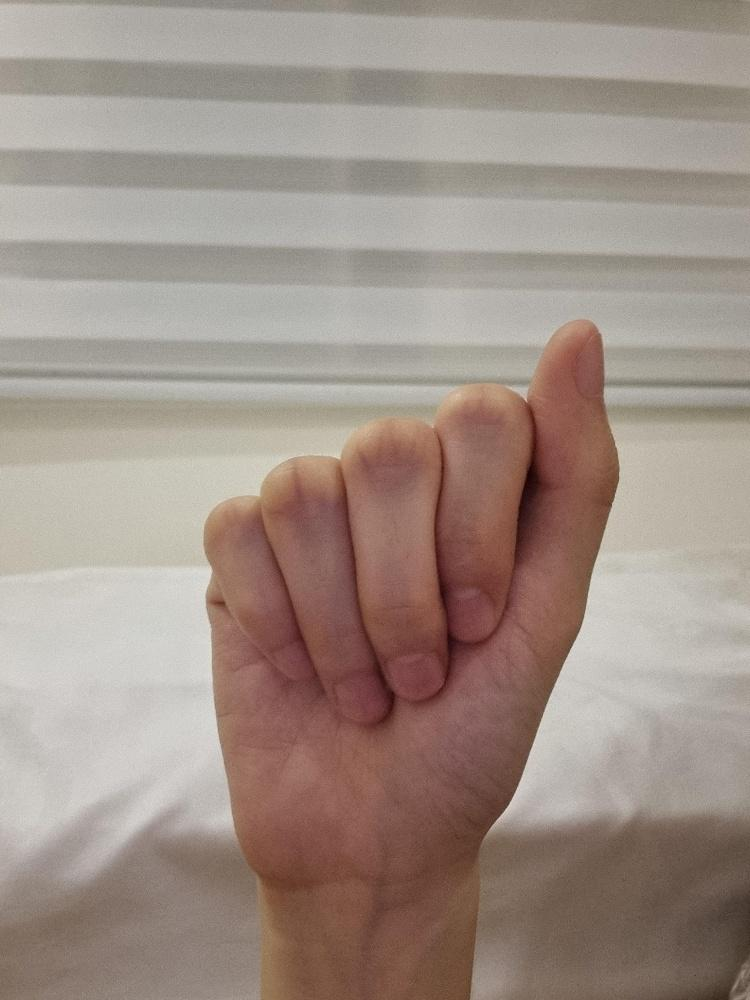a: (201, 316, 622, 887)
